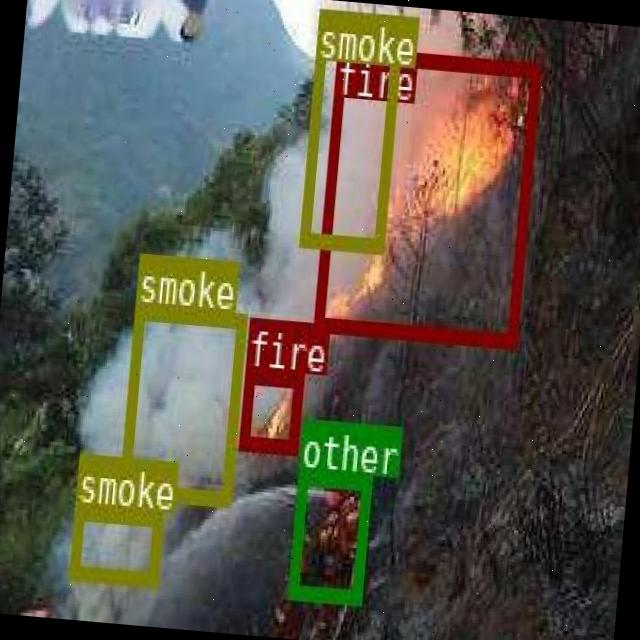fire: (312, 42, 538, 344), (238, 366, 302, 452)
smoke: (117, 302, 245, 502), (298, 6, 402, 251), (68, 502, 162, 584)
